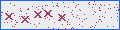x: (4, 12, 14, 22), (43, 9, 53, 19), (20, 15, 29, 25), (57, 13, 67, 22), (33, 11, 42, 19)
